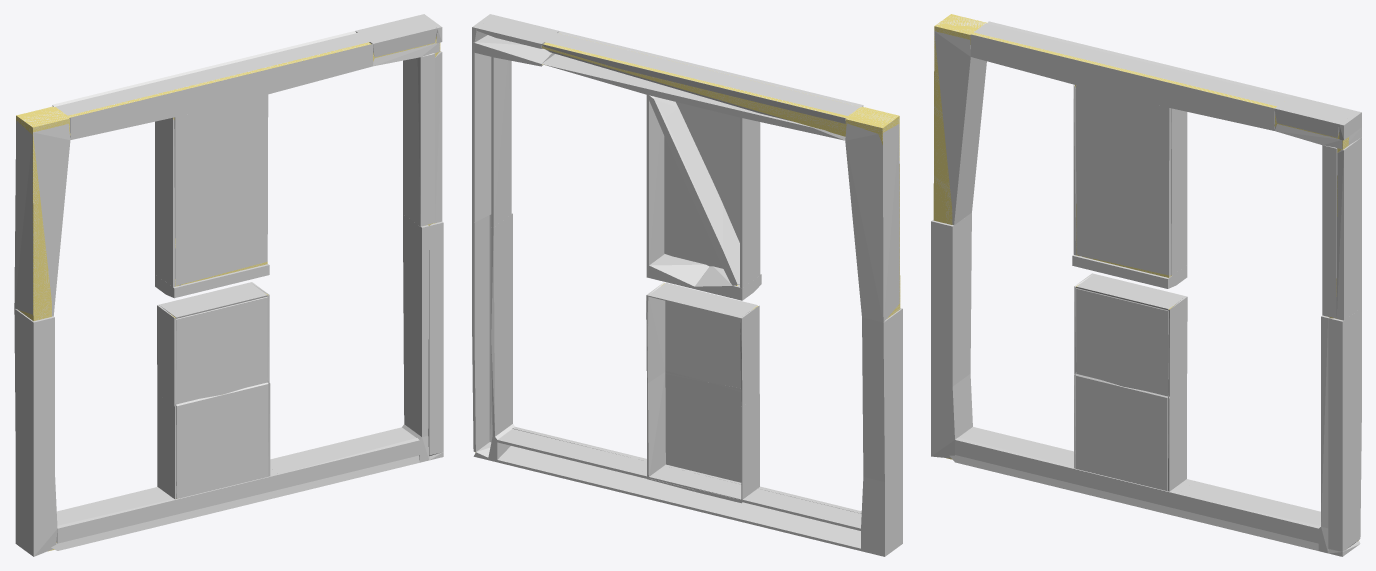
File: H_planar_env.dae
3 renders of one model, left to right at view 1: azimuth 30°, elevation 25°; view 2: azimuth 150°, elevation 25°; view 3: azimuth 330°, elevation 25°, orthographic.
Parts seen in each view (by area): view 1: instance_0_hull_24, instance_0_hull_1, instance_0_hull_3, instance_0_hull_27, instance_0_hull_13, instance_0.002_hull_6, instance_0, instance_0.002_hull_8, instance_0.002_hull_9, instance_0.002_hull_11, instance_0_hull_20, instance_0_hull_30 (+21 smaller); view 2: instance_0_hull_1, instance_0_hull_24, instance_0_hull_3, instance_0_hull_28, instance_0_hull_13, instance_0, instance_0_hull_7, instance_0.002_hull_8, instance_0_hull_23, instance_0_hull_30, instance_0_hull_21, instance_0_hull_26 (+24 smaller); view 3: instance_0_hull_24, instance_0_hull_3, instance_0_hull_1, instance_0_hull_27, instance_0.002_hull_6, instance_0.002_hull_8, instance_0_hull_22, instance_0, instance_0_hull_5, instance_0.002_hull_9, instance_0.002_hull_11, instance_0_hull_20 (+21 smaller).
Boxes of the visible parts, x1,y1,x2,y2 form: instance_0_hull_24: (174,94,268,285); instance_0_hull_1: (14,120,70,316); instance_0_hull_3: (14,308,54,481); instance_0_hull_27: (69,44,372,134); instance_0_hull_13: (403,214,429,437); instance_0.002_hull_6: (176,394,222,498); instance_0: (16,36,440,551); instance_0.002_hull_8: (223,382,268,487); instance_0.002_hull_9: (176,308,222,404); instance_0.002_hull_11: (222,296,267,394); instance_0_hull_20: (56,472,278,543); instance_0_hull_30: (55,33,369,115); instance_0_hull_1: (845,123,899,322); instance_0_hull_24: (664,102,739,268); instance_0_hull_3: (862,308,902,481); instance_0_hull_28: (649,95,739,285); instance_0_hull_13: (491,213,512,436); instance_0: (475,42,900,452); instance_0_hull_7: (638,479,860,550); instance_0.002_hull_8: (665,369,710,475); instance_0_hull_23: (472,215,489,451); instance_0_hull_30: (545,33,859,115); instance_0_hull_21: (638,466,861,530); instance_0_hull_26: (542,54,845,140); instance_0_hull_24: (1076,85,1171,276); instance_0_hull_3: (931,212,971,386); instance_0_hull_1: (934,31,986,225); instance_0_hull_27: (970,34,1274,125); instance_0.002_hull_6: (1075,374,1122,479); instance_0.002_hull_8: (1122,386,1168,491); instance_0_hull_22: (1328,318,1346,551); instance_0: (933,14,1358,540); instance_0_hull_5: (1336,137,1361,320); instance_0.002_hull_9: (1076,288,1122,386); instance_0.002_hull_11: (1122,299,1168,396); instance_0_hull_20: (955,437,1179,508).
Size of the model in its own units: 111 by 9.01 by 111.
